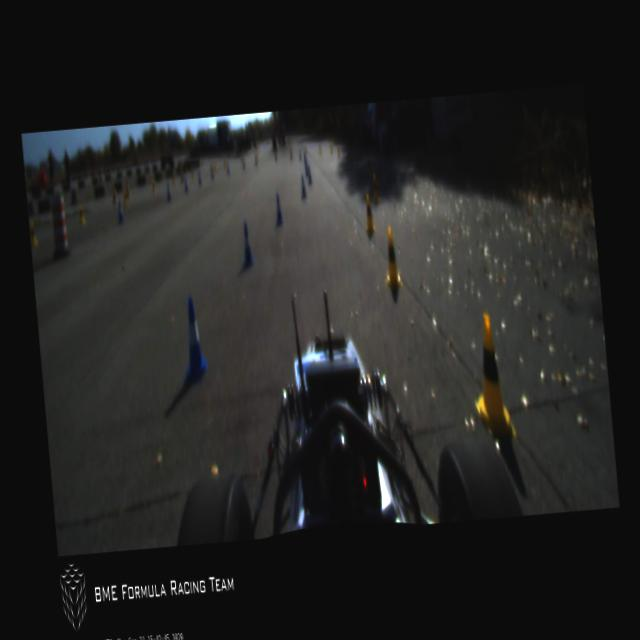blue_cone: (178, 296, 210, 379), (238, 221, 254, 271), (272, 192, 283, 226), (116, 199, 125, 224), (300, 175, 306, 198), (306, 166, 312, 183), (165, 183, 171, 200), (196, 170, 202, 184), (183, 177, 188, 193), (303, 159, 308, 175), (209, 164, 214, 179), (241, 156, 245, 170), (226, 160, 230, 173), (274, 150, 278, 162), (302, 152, 306, 162), (298, 148, 301, 158), (254, 153, 256, 165), (290, 148, 292, 159)
orange_cone: (110, 183, 117, 202), (125, 178, 131, 198)
unknown_cone: (222, 154, 226, 169), (212, 158, 216, 172)
yellow_cone: (468, 312, 516, 439), (382, 227, 402, 290), (362, 192, 376, 234), (28, 220, 38, 248), (371, 173, 379, 204), (78, 203, 86, 226), (374, 166, 380, 186), (122, 188, 128, 204), (150, 177, 156, 193), (366, 156, 371, 172), (171, 171, 176, 186), (190, 167, 194, 180), (355, 152, 358, 164), (337, 146, 340, 155), (318, 146, 321, 155), (304, 146, 307, 155), (330, 144, 332, 155)
